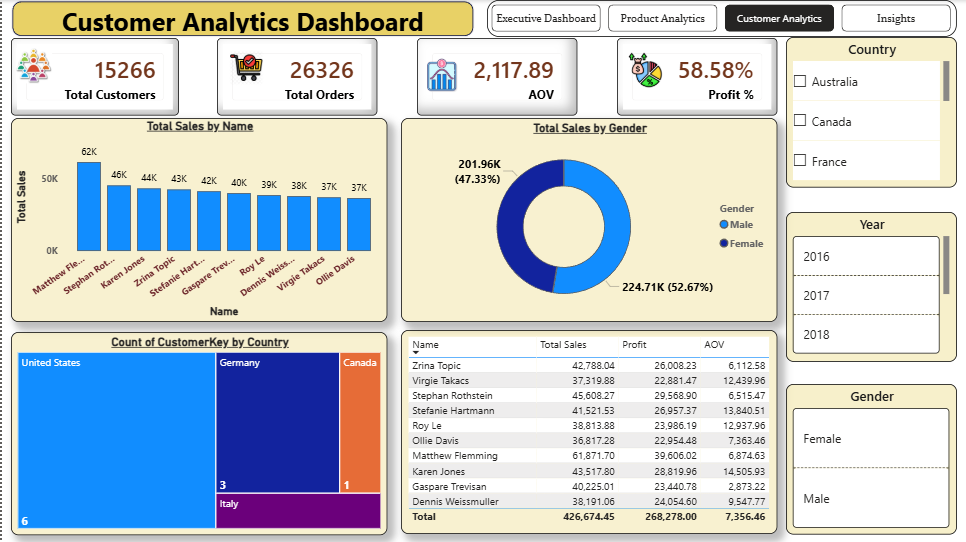

The dashboard page shown, as its layout file describes it:
{"tool":"powerbi","page":{"name":"Customer Analytics","canvas":[1280,720],"ordinal":2},"visuals":[{"type":"shape","box":[11.7,0,616.1,49.8],"z":0},{"type":"cardVisual","fields":{"Data":["Measures (2).Total Customers"]},"box":[11.7,50.2,223.3,103],"z":0,"group":"g5"},{"type":"cardVisual","fields":{"Data":["Measures (2).Total Orders"]},"box":[285.3,50.2,213,103],"z":0,"group":"g6"},{"type":"cardVisual","fields":{"Data":["Measures (2).AOV"]},"box":[551.8,50.2,213,103],"z":0,"group":"g7"},{"type":"cardVisual","fields":{"Data":["Measures (2).Profit %"]},"box":[816.6,50.2,213,103],"z":0,"group":"g4"},{"type":"group","id":"g1","title":"Group 2","box":[551.8,50.2,213,103],"z":1000},{"type":"image","box":[18.4,54.9,47.7,63.2],"z":1000,"group":"g5"},{"type":"image","box":[300.8,58.8,46.3,63.2],"z":1000,"group":"g6"},{"type":"image","box":[830.8,61.5,46.3,63.5],"z":1000,"group":"g4"},{"type":"image","box":[562.9,68.8,45.9,62.2],"z":1000,"group":"g7"},{"type":"group","id":"g2","title":"Group 5","box":[11.7,50.2,222.4,102.4],"z":2000},{"type":"clusteredColumnChart","fields":{"Category":["Customers.Name"],"Y":["Measures (2).Total Sales"]},"box":[11.7,157.3,500.5,270.7],"z":3000},{"type":"donutChart","fields":{"Category":["Customers.Gender"],"Y":["Measures (2).Total Sales"]},"box":[529.8,157.3,500.5,270.7],"z":4000},{"type":"treemap","fields":{"Values":["CountNonNull(Customers.CustomerKey)"],"Group":["Customers.Country"]},"box":[11.7,440.5,500.5,270],"z":5000},{"type":"tableEx","fields":{"Values":["Customers.Name","Measures (2).Total Sales","Measures (2).Profit","Measures (2).AOV"]},"box":[529.8,439,500.5,270.7],"z":6000},{"type":"listSlicer","title":"Country","fields":{"Values":["Stores.Country"]},"box":[1042,49.8,226.8,200.5],"z":7000},{"type":"advancedSlicerVisual","title":"Year","fields":{"Values":["Calendar.year"]},"box":[1042,281,226.8,199],"z":8000},{"type":"advancedSlicerVisual","title":"Gender","fields":{"Values":["Customers.Gender"]},"box":[1042,510.7,226.8,200.5],"z":9000},{"type":"group","id":"g3","title":"Group 4","box":[285.3,50.2,213.7,102.4],"z":10000},{"type":"group","id":"g4","title":"Group 3","box":[816.6,50.2,213.7,103.9],"z":11000},{"type":"pageNavigator","box":[644.6,0,624.3,48.6],"z":11001},{"type":"group","id":"g5","title":"Group 7","box":[11.7,50.2,223.3,103],"z":11001,"group":"g8"},{"type":"group","id":"g6","title":"Group 8","box":[285.3,50.2,213,103],"z":11001,"group":"g3"},{"type":"group","id":"g7","title":"Group 9","box":[551.8,50.2,213,103],"z":11001,"group":"g1"},{"type":"group","id":"g8","title":"Group 6","box":[11.7,50.2,223.3,103],"z":11009,"group":"g2"}]}

Visuals, with their boxes in screenshot pixels (x1, y1, x2, y2), scaled from the page's 1280x720 canvas onto the 966x542 screenshot:
shape: Rect(9, 0, 474, 37)
cardVisual - Measures (2).Total Customers: Rect(9, 38, 177, 115)
cardVisual - Measures (2).Total Orders: Rect(215, 38, 376, 115)
cardVisual - Measures (2).AOV: Rect(416, 38, 577, 115)
cardVisual - Measures (2).Profit %: Rect(616, 38, 777, 115)
"Group 2" group: Rect(416, 38, 577, 115)
image: Rect(14, 41, 50, 89)
image: Rect(227, 44, 262, 92)
image: Rect(627, 46, 662, 94)
image: Rect(425, 52, 459, 99)
"Group 5" group: Rect(9, 38, 177, 115)
clusteredColumnChart - Customers.Name x Measures (2).Total Sales: Rect(9, 118, 387, 322)
donutChart - Customers.Gender x Measures (2).Total Sales: Rect(400, 118, 778, 322)
treemap - CountNonNull(Customers.CustomerKey) x Customers.Country: Rect(9, 332, 387, 535)
tableEx - Customers.Name x Measures (2).Total Sales: Rect(400, 330, 778, 534)
"Country" listSlicer: Rect(786, 37, 958, 188)
"Year" advancedSlicerVisual: Rect(786, 212, 958, 361)
"Gender" advancedSlicerVisual: Rect(786, 384, 958, 535)
"Group 4" group: Rect(215, 38, 377, 115)
"Group 3" group: Rect(616, 38, 778, 116)
pageNavigator: Rect(486, 0, 958, 37)
"Group 7" group: Rect(9, 38, 177, 115)
"Group 8" group: Rect(215, 38, 376, 115)
"Group 9" group: Rect(416, 38, 577, 115)
"Group 6" group: Rect(9, 38, 177, 115)
